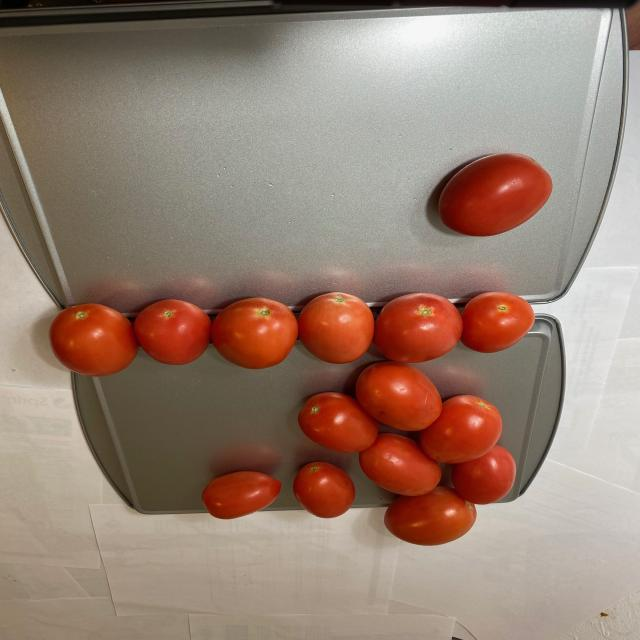tomato: (48, 293, 552, 545), (438, 153, 556, 238)
